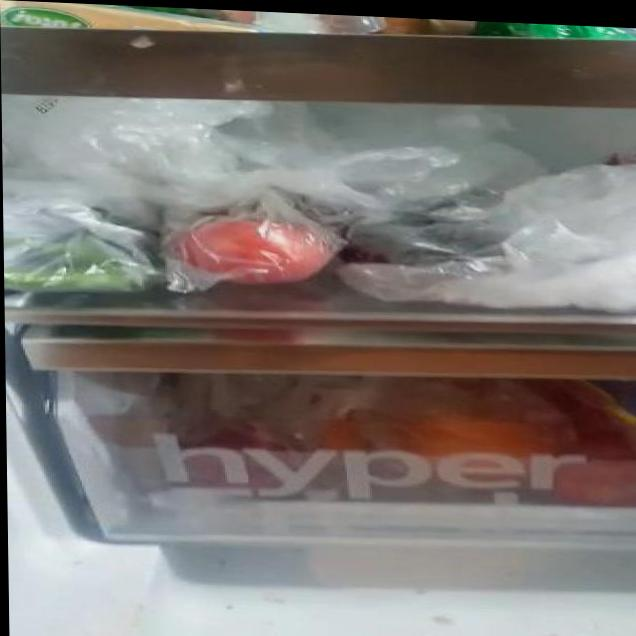tomato: (185, 215, 332, 288)
